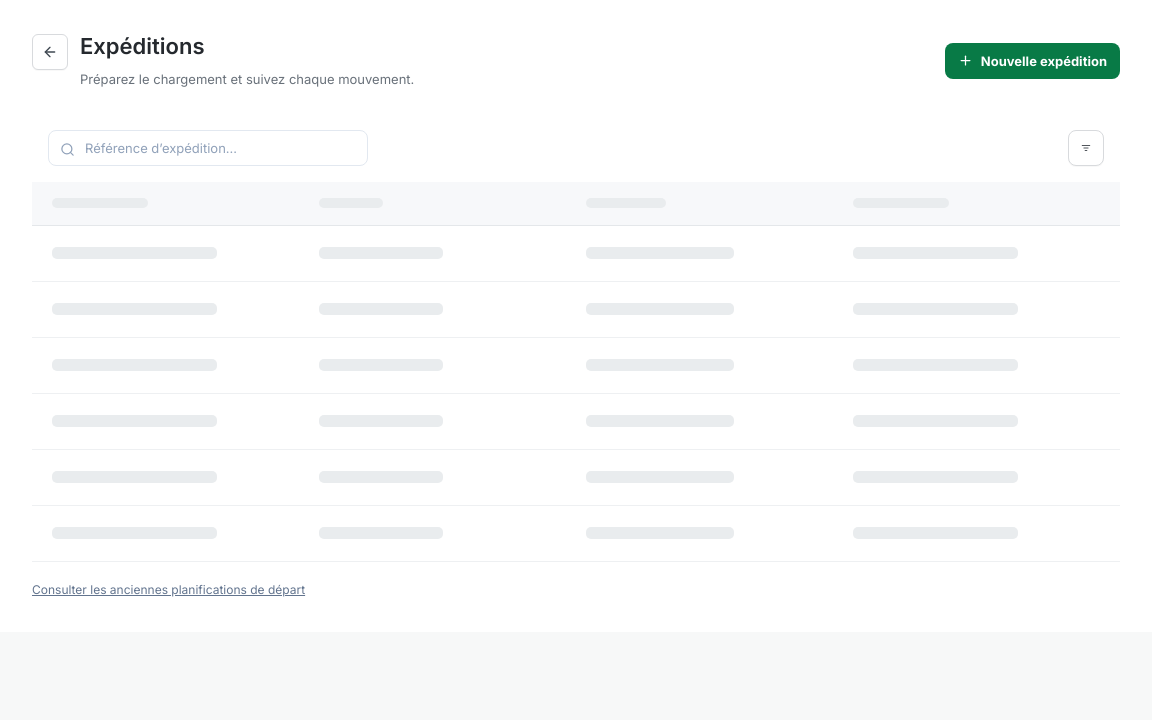
Registre Expéditions fret › planifie depuis une route et un service actifs avec date et note interne
Click the button "Nouvelle expédition" at [1032, 61], box [945,43,1120,79]
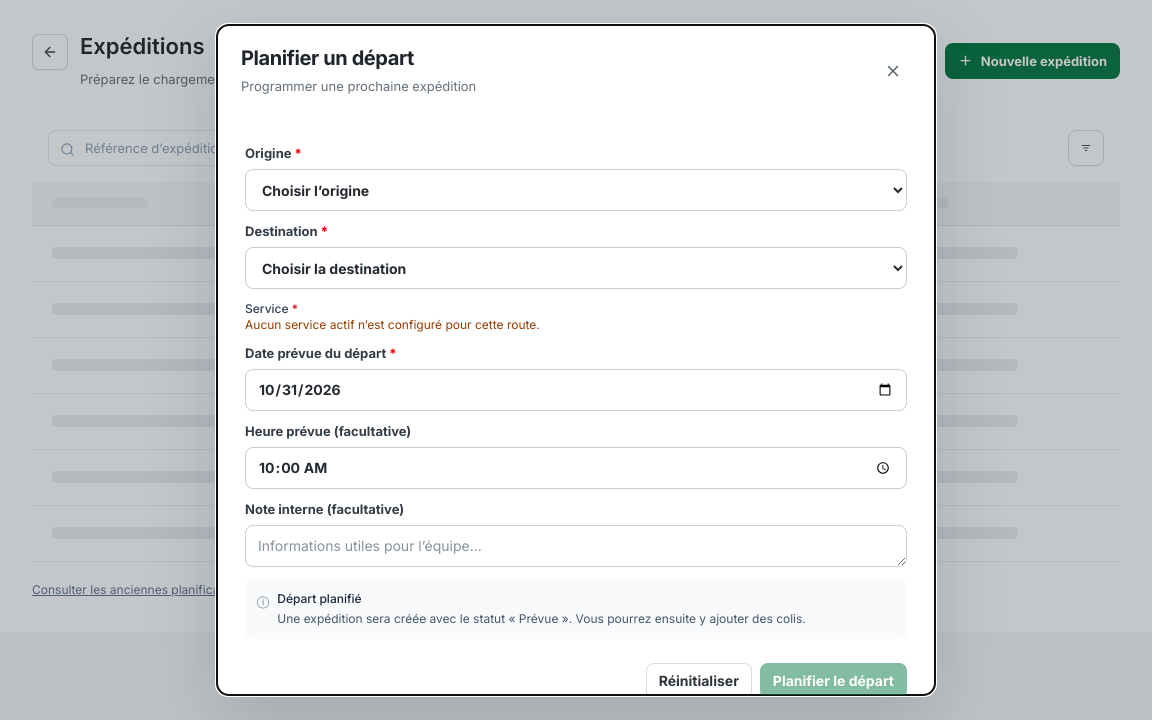
Select "Guangzhou, CN" in the dropdown labelled "Origine *" at [576, 190], box [245,169,907,211]
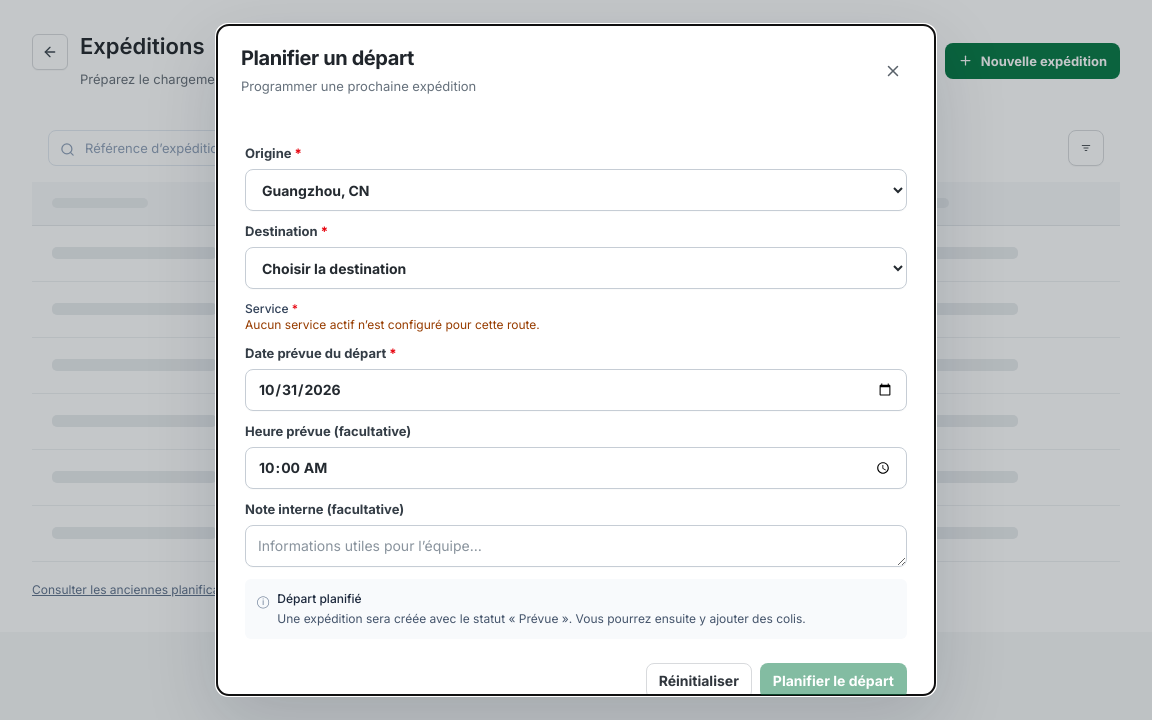
Select "Kinshasa, CD · Chine RDC aérien" in the dropdown labelled "Destination *" at [576, 268], box [245,247,907,289]
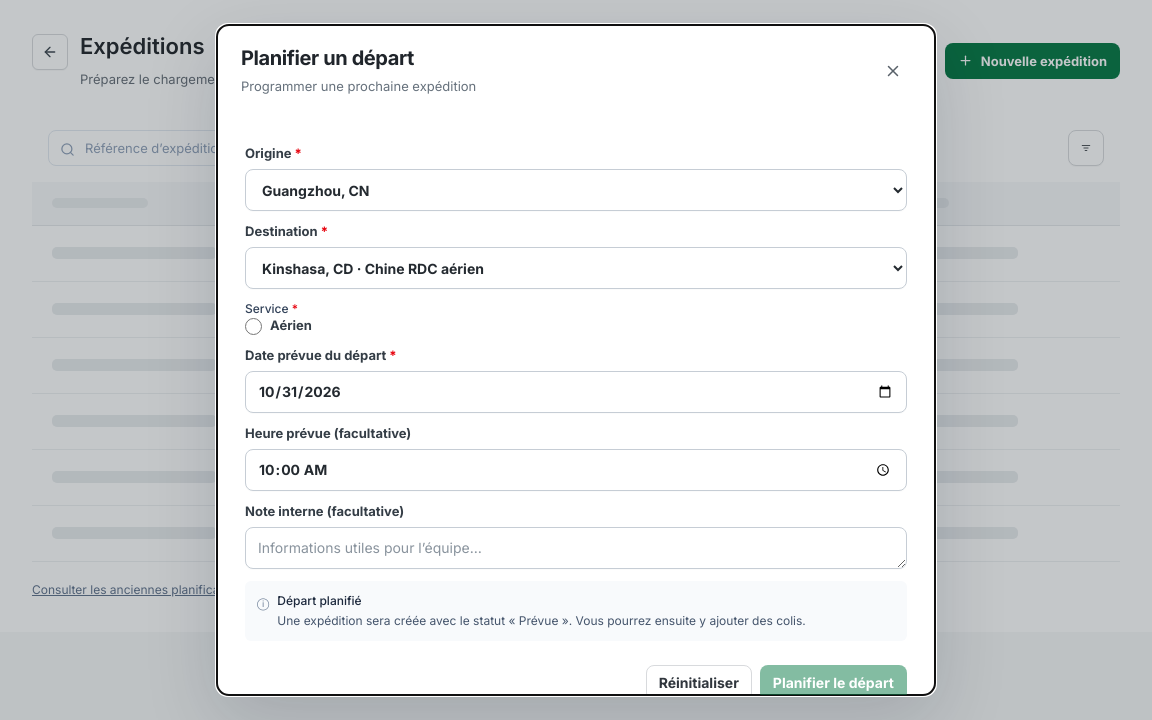
Click the radio button labelled "Aérien" at [254, 326], box [245,318,262,334]
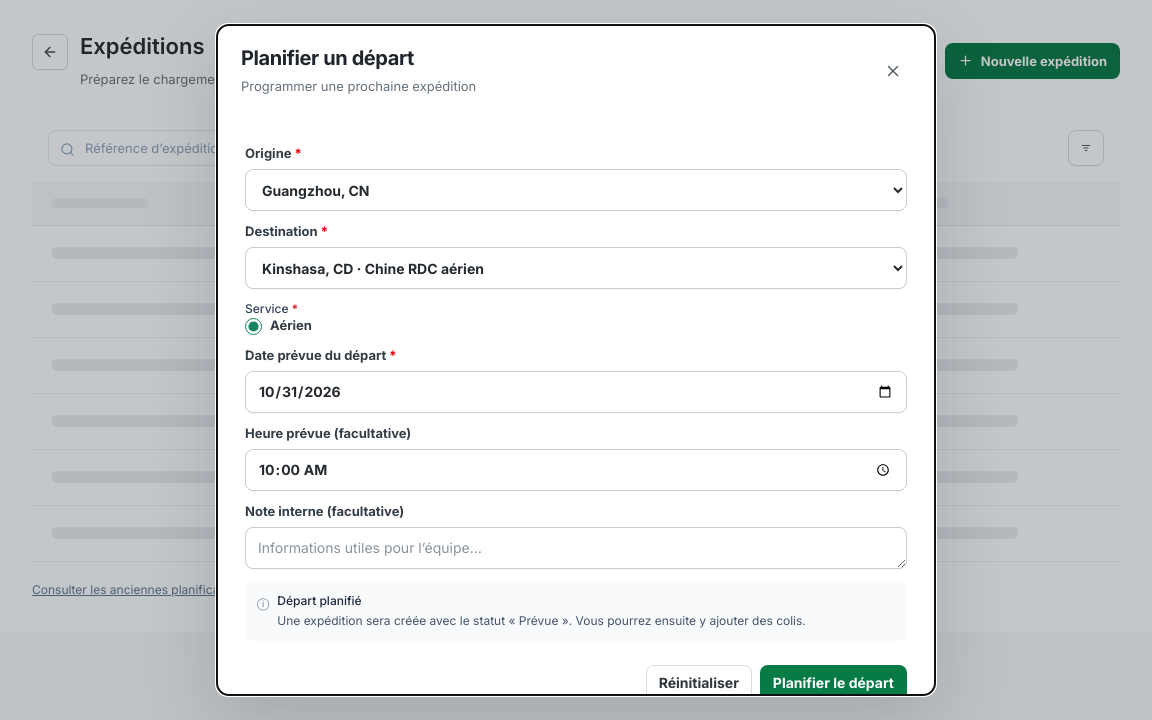
Click the button "Planifier le départ" at [833, 683], box [760,665,907,701]
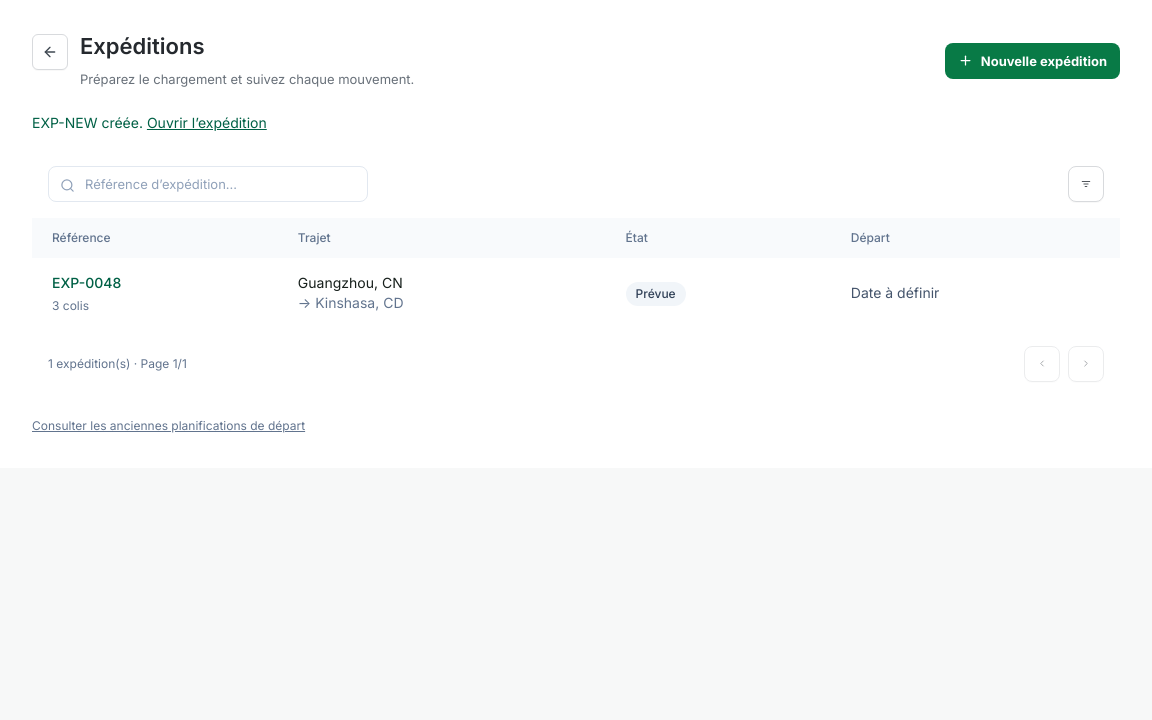
Now the text "EXP-NEW créée." is shown, box [32,115,267,132]
